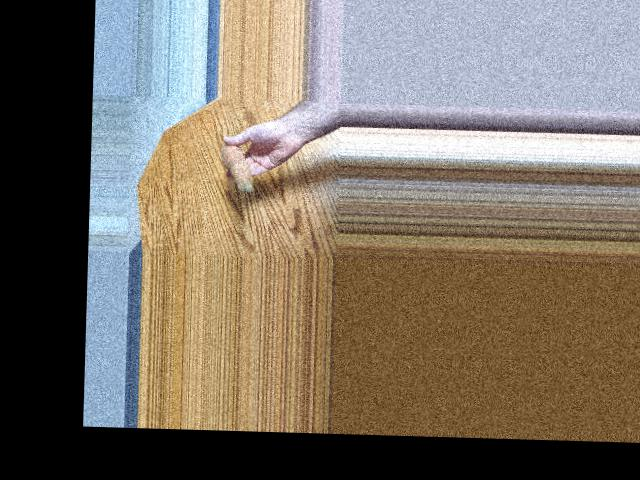sweet_potato: (221, 140, 257, 193)
